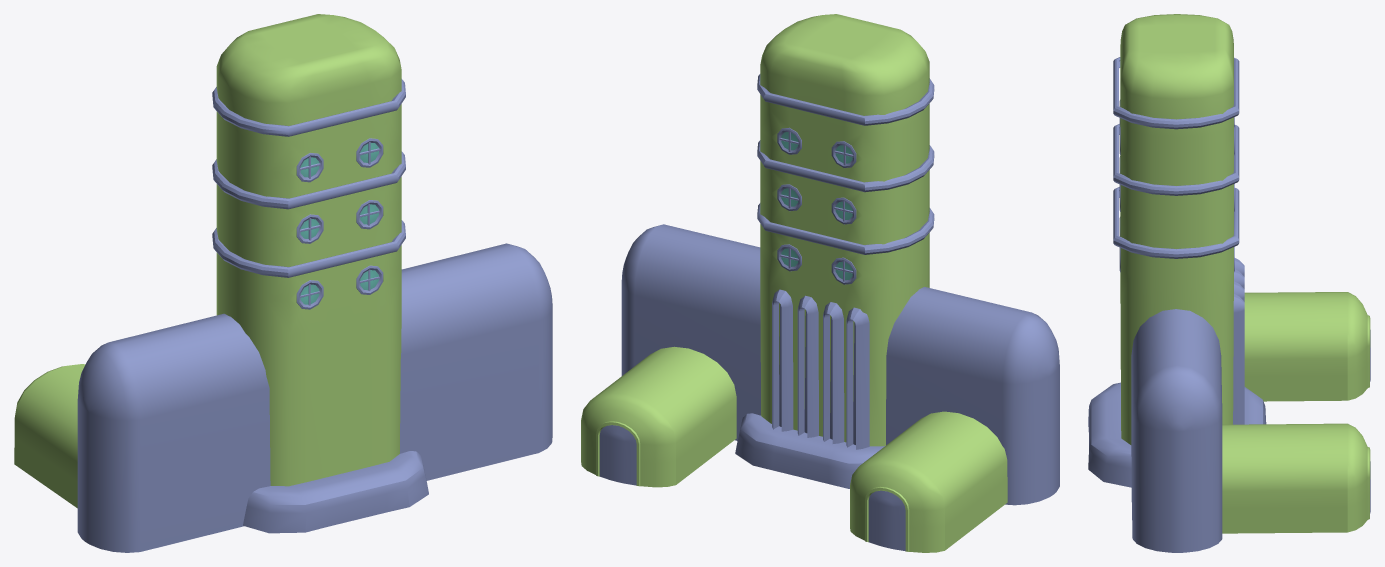
Rendered from SM_Skyscraper_14.fbx.
The picture shows the model from 3 angles, left to right: view 1: azimuth 30°, elevation 25°; view 2: azimuth 150°, elevation 25°; view 3: azimuth 270°, elevation 25°; orthographic projection. The views are drawn at different scales.
Visible parts, largest first — view 1: SM_Skyscraper_14; view 2: SM_Skyscraper_14; view 3: SM_Skyscraper_14.
Part boxes in pixels (<box>): SM_Skyscraper_14: <box>14,14,552,552</box>; SM_Skyscraper_14: <box>581,14,1059,552</box>; SM_Skyscraper_14: <box>1088,14,1370,552</box>.
Size of the model in its own units: 1974 by 1812 by 1137.
